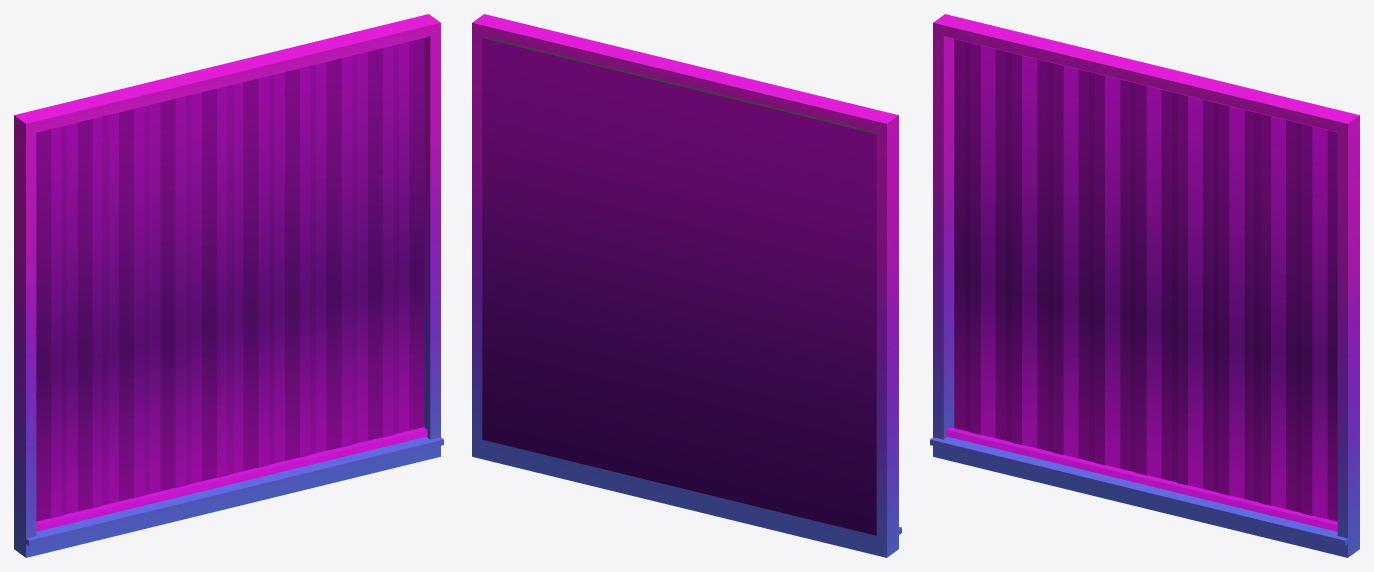
File: panel_01.gltf
The picture shows the model from 3 angles, left to right: view 1: azimuth 30°, elevation 25°; view 2: azimuth 150°, elevation 25°; view 3: azimuth 330°, elevation 25°; orthographic projection.
Visible parts, largest first — view 1: Details.001, Plane.001, Neones; view 2: Plane.002, Plane.001; view 3: Details.001, Plane.001, Neones.
Part boxes in pixels (left/top/right/bottom): Details.001: left=36, top=38, right=424, bottom=521; Plane.001: left=14, top=14, right=443, bottom=557; Neones: left=36, top=37, right=427, bottom=531; Plane.002: left=482, top=36, right=876, bottom=535; Plane.001: left=472, top=14, right=901, bottom=557; Details.001: left=954, top=39, right=1337, bottom=521; Plane.001: left=930, top=14, right=1359, bottom=557; Neones: left=946, top=37, right=1337, bottom=531.
Size of what is drawn, in the model's own units: 4 by 4 by 0.2507.
2 materials, 2 textured.
